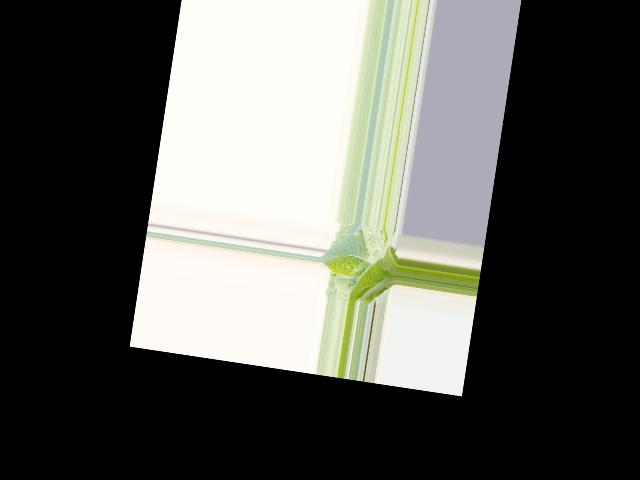lettuce: (321, 227, 402, 306)
